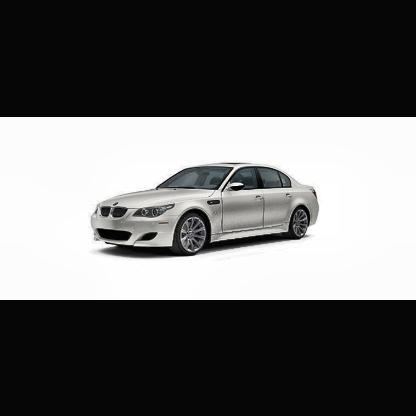BMW M5 Sedan 2010: (94, 165, 321, 255)
